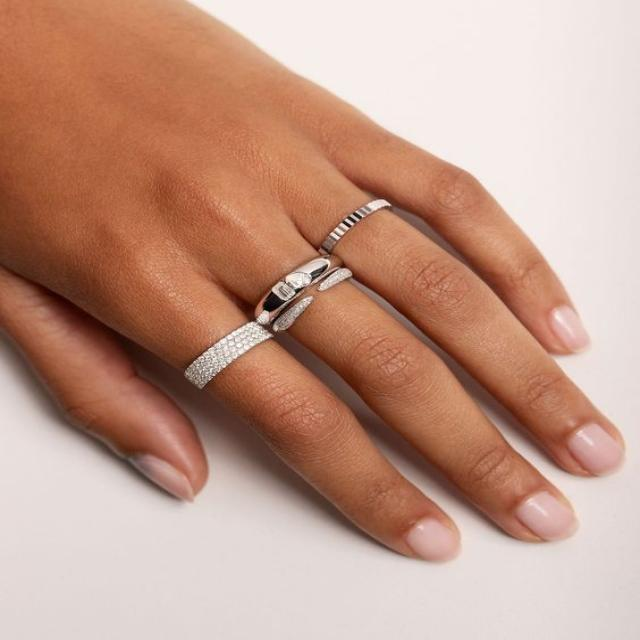Fingernail: (517, 490, 579, 545), (564, 424, 627, 473), (129, 452, 190, 501), (409, 517, 459, 559), (549, 301, 589, 352)
